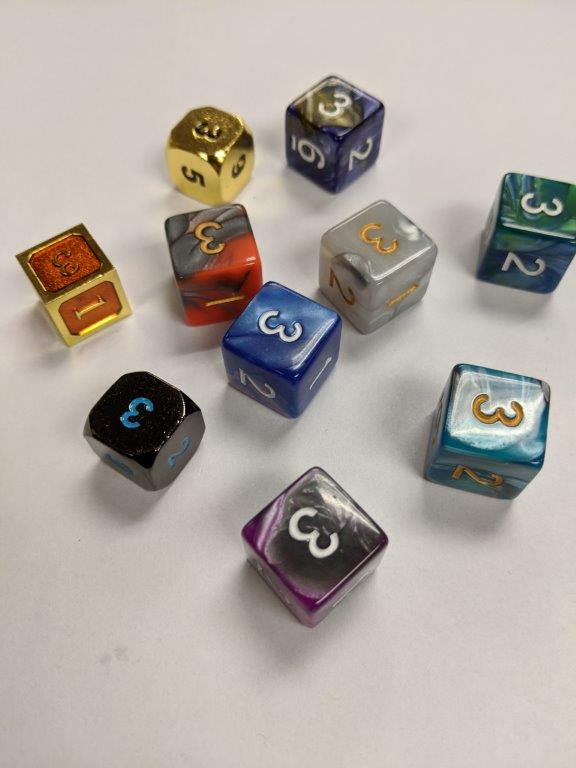d6-3: (242, 463, 388, 632), (425, 365, 551, 502), (319, 199, 439, 338), (223, 279, 342, 419), (79, 372, 207, 492), (15, 221, 134, 346), (287, 73, 385, 199), (479, 172, 576, 296), (165, 201, 259, 321), (167, 105, 256, 207)
